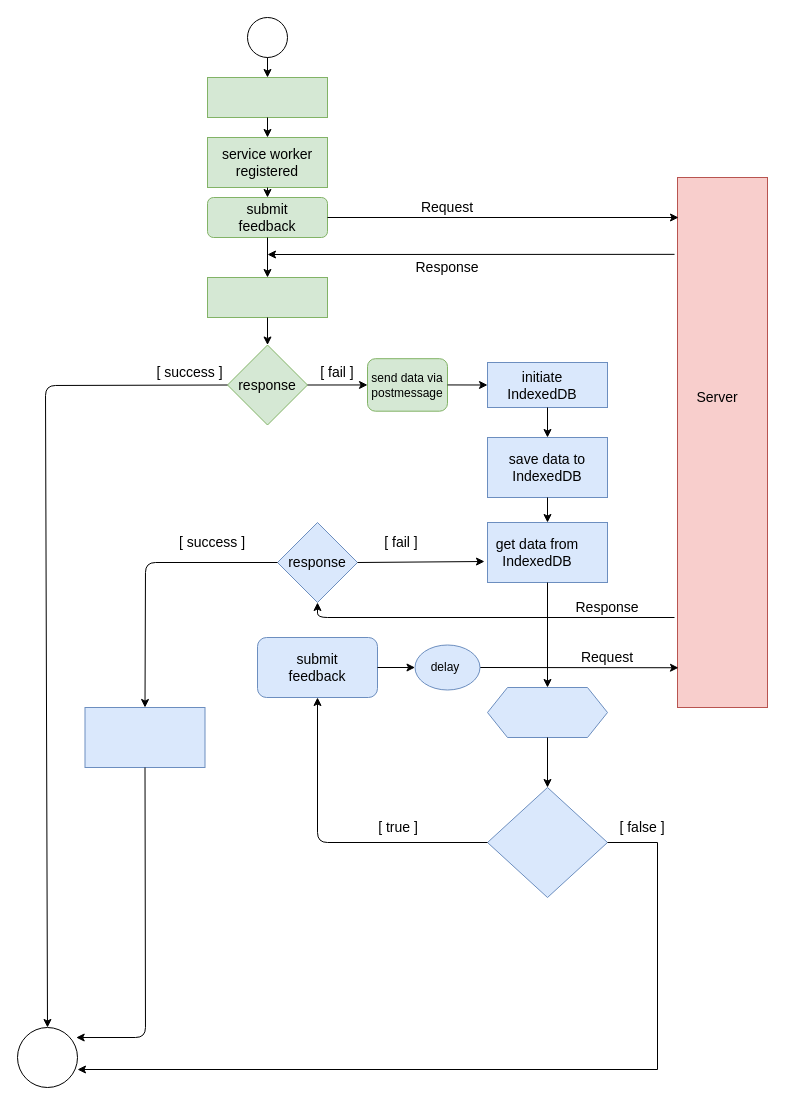
This 785x1105 diagram has some shape labels left out. The box of each missing label's shape, as (x1, y1, x2, y2) in pixels:
'Thank you' page: (206, 276, 328, 318)
maxTry --: (486, 686, 608, 738)
maxTry > 0: (486, 786, 608, 898)
onExtraDataArrived: (206, 76, 328, 118)
remove IndexedDB record: (84, 706, 205, 768)
